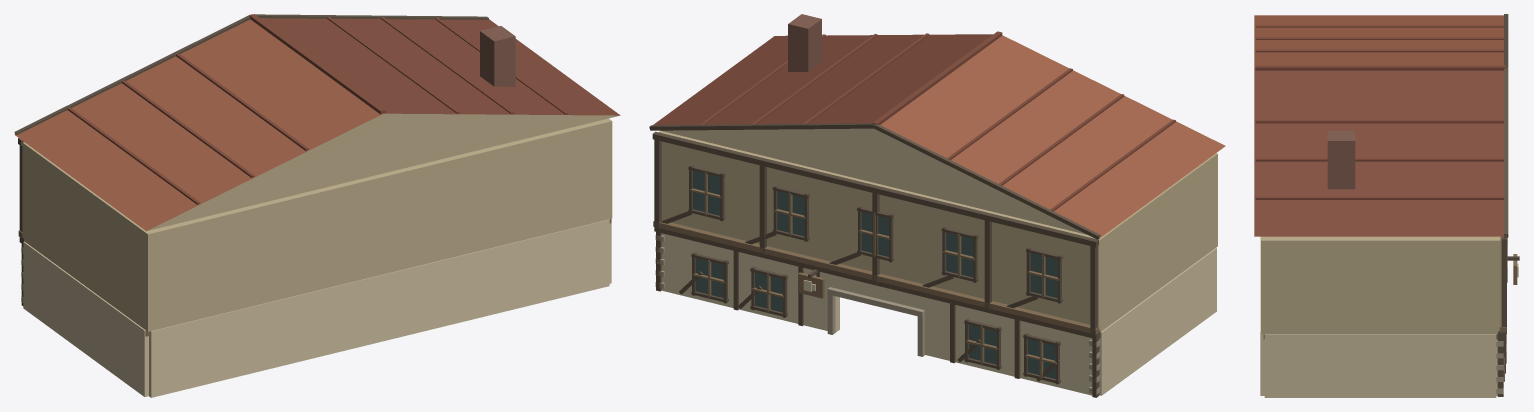
Rendered from WalkTown_Tavern_Cover.fbx.
3 renders of one model, left to right at view 1: azimuth 30°, elevation 25°; view 2: azimuth 150°, elevation 25°; view 3: azimuth 270°, elevation 25°, orthographic. The views are drawn at different scales.
Visible parts, largest first — view 1: WalkTown_Tavern_Cover; view 2: WalkTown_Tavern_Cover; view 3: WalkTown_Tavern_Cover.
Part boxes in pixels (x1,y1,x2,y2): WalkTown_Tavern_Cover: [14, 14, 620, 397]; WalkTown_Tavern_Cover: [649, 14, 1225, 397]; WalkTown_Tavern_Cover: [1254, 14, 1519, 397].
Size of the model in its own units: 16.04 by 7.71 by 8.13.
